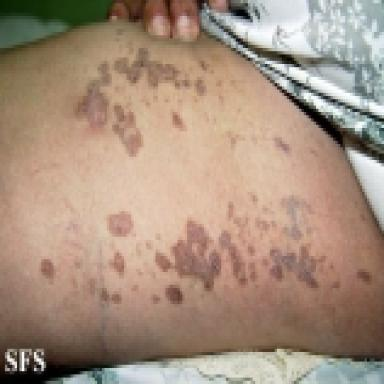Porokeratosis: (154, 217, 221, 292), (114, 48, 193, 88), (269, 245, 325, 288), (77, 62, 111, 128), (113, 106, 143, 156), (219, 231, 247, 284), (282, 194, 313, 239), (109, 212, 133, 236), (225, 129, 246, 150), (166, 285, 185, 304), (234, 217, 248, 241), (110, 252, 125, 274), (41, 259, 54, 280), (275, 137, 290, 153), (193, 79, 206, 95), (173, 113, 185, 130), (330, 277, 341, 293), (357, 270, 371, 282), (248, 263, 257, 281), (256, 219, 269, 231), (128, 279, 139, 293), (199, 59, 209, 71), (247, 243, 256, 256), (111, 292, 121, 303), (101, 288, 109, 301), (228, 202, 234, 219), (261, 256, 269, 268), (151, 294, 161, 303), (214, 77, 222, 88), (136, 242, 142, 256), (145, 240, 153, 250)
